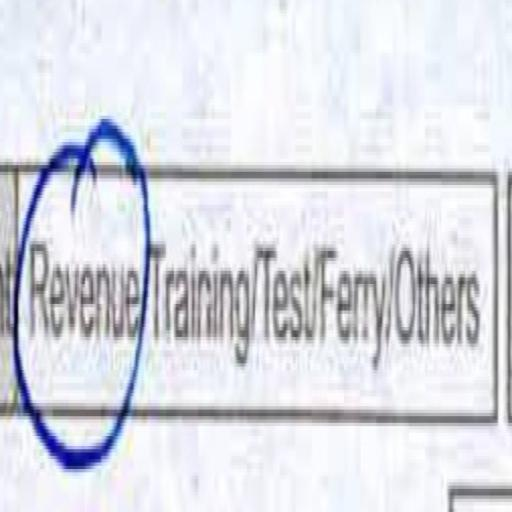check: (11, 80, 147, 512)
